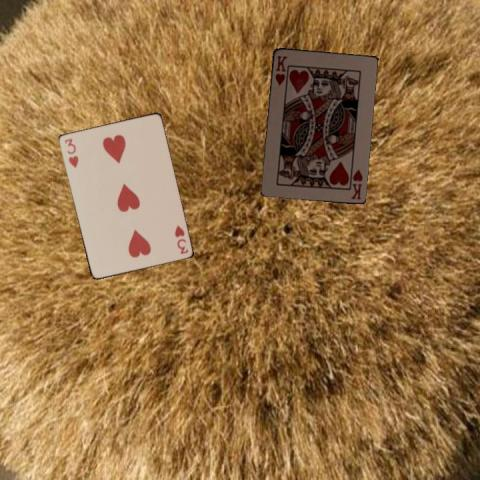3h: (62, 135, 80, 169), (172, 222, 190, 255)
Kh: (348, 166, 364, 201), (272, 53, 288, 87)
